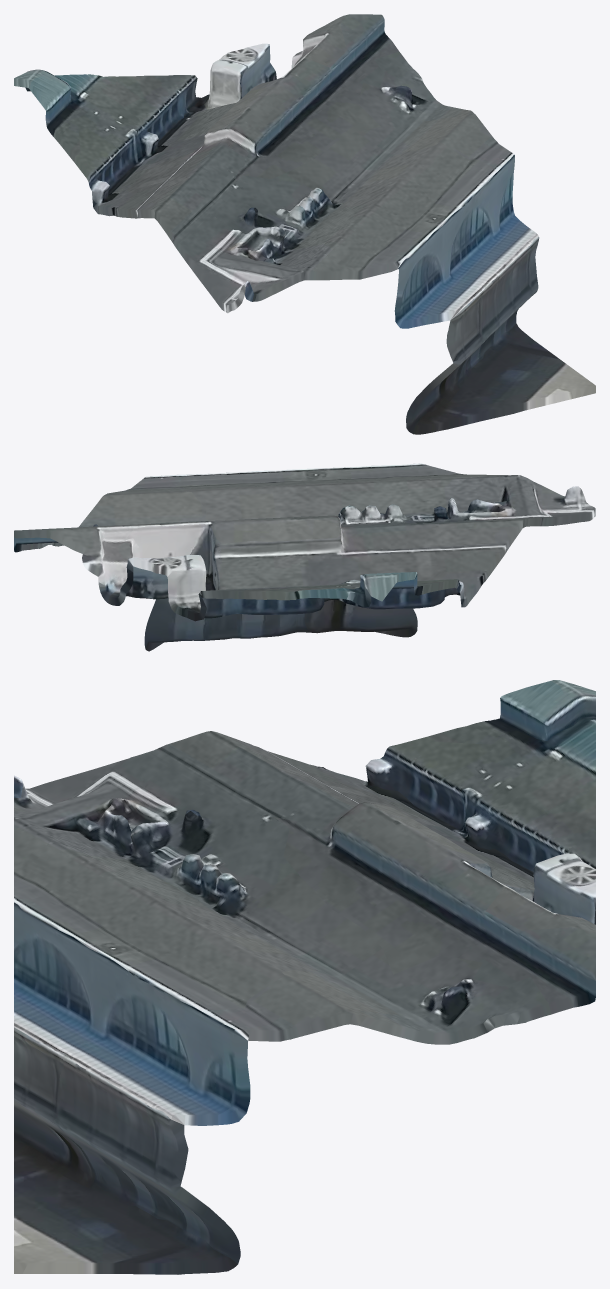
The model's file is z20-167792-405221-h0-yup-uvflip-v3-world.glb.
3 views of the same model, one above another, from view 1: azimuth 30°, elevation 25°; view 2: azimuth 150°, elevation 25°; view 3: azimuth 270°, elevation 25° (orthographic). The views are drawn at different scales.
Size of the model in its own units: 30.16 by 20.12 by 30.32.
Materials: 1 (1 with a texture image).
